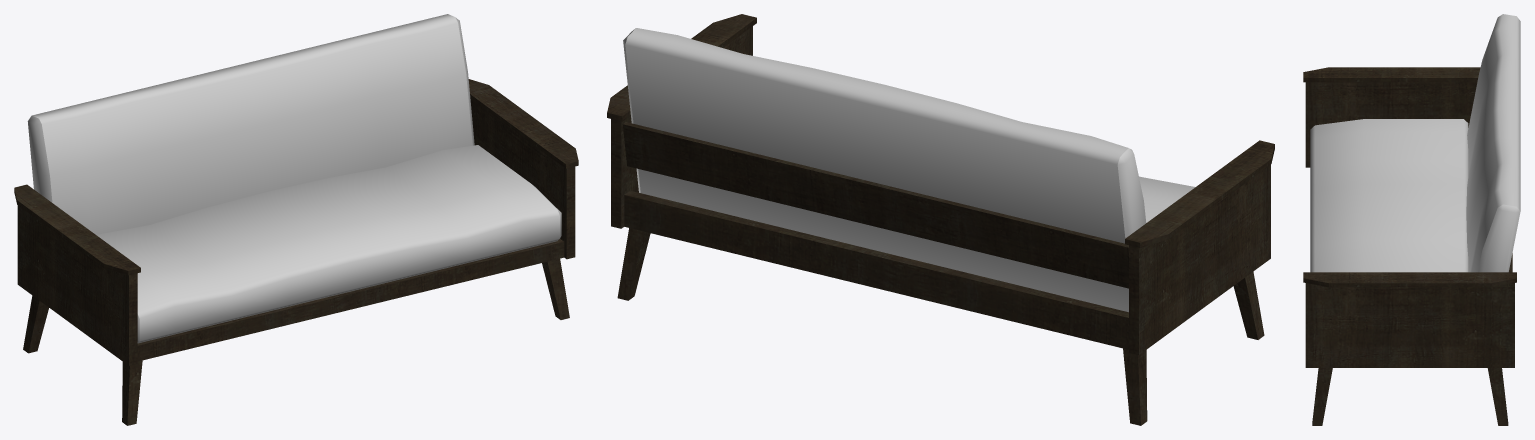
Rendered from sofa_4_2.fbx.
The picture shows the model from 3 angles, left to right: view 1: azimuth 30°, elevation 25°; view 2: azimuth 150°, elevation 25°; view 3: azimuth 270°, elevation 25°; orthographic projection. The views are drawn at different scales.
Visible parts, largest first — view 1: sofa_4_2; view 2: sofa_4_2; view 3: sofa_4_2.
Boxes of the visible parts, box(x1,y1,x2,y2) form: sofa_4_2: box(14, 14, 578, 425); sofa_4_2: box(607, 14, 1274, 425); sofa_4_2: box(1303, 14, 1520, 425).
Size of the model in its own units: 2.2 by 0.9346 by 1.03.
